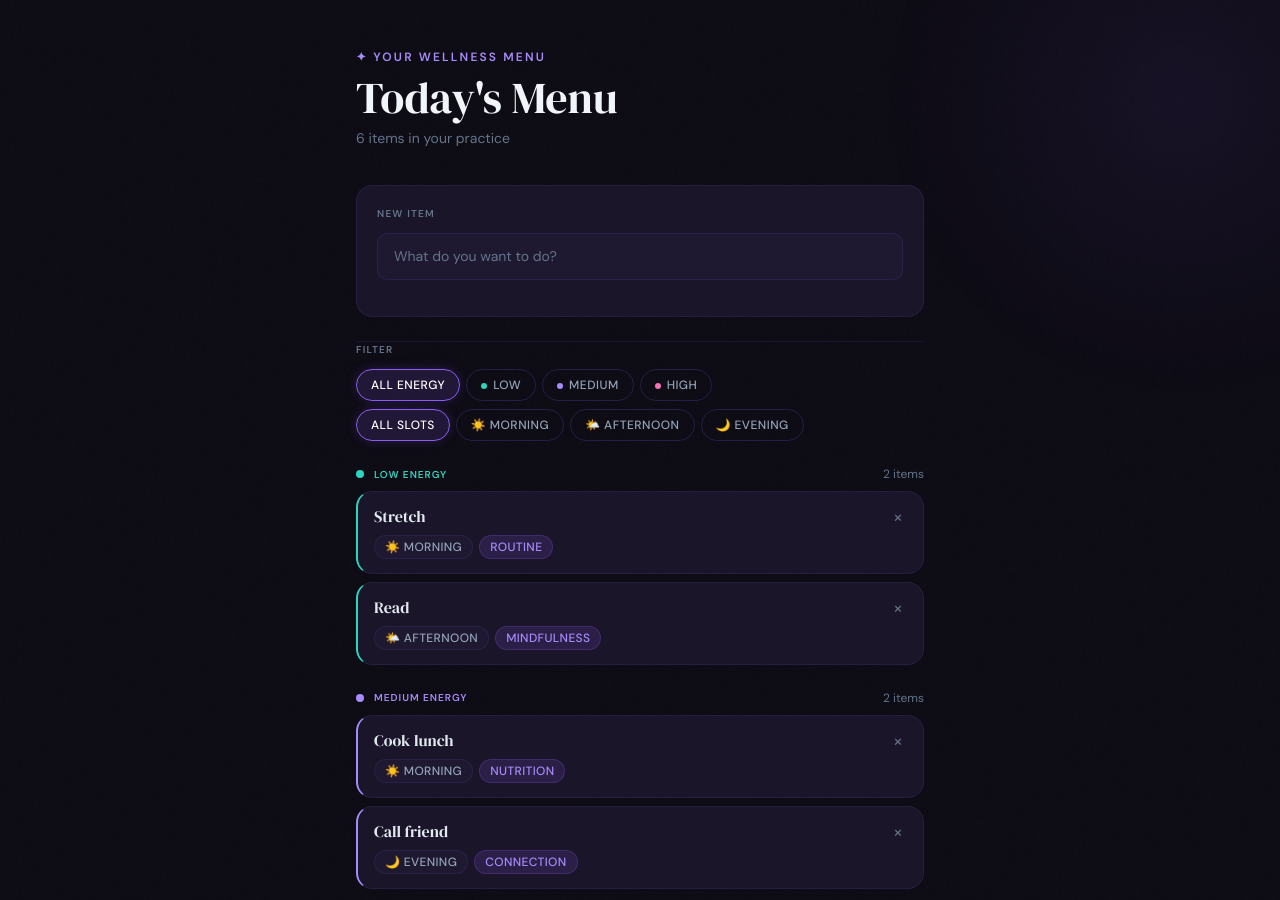
Test: App — energy filter › shows only high-energy items after clicking the High pill
Expected: the text "Stretch" is shown, [374,505,426,527]
Click the button "High": (676, 385) [640,369,712,401]
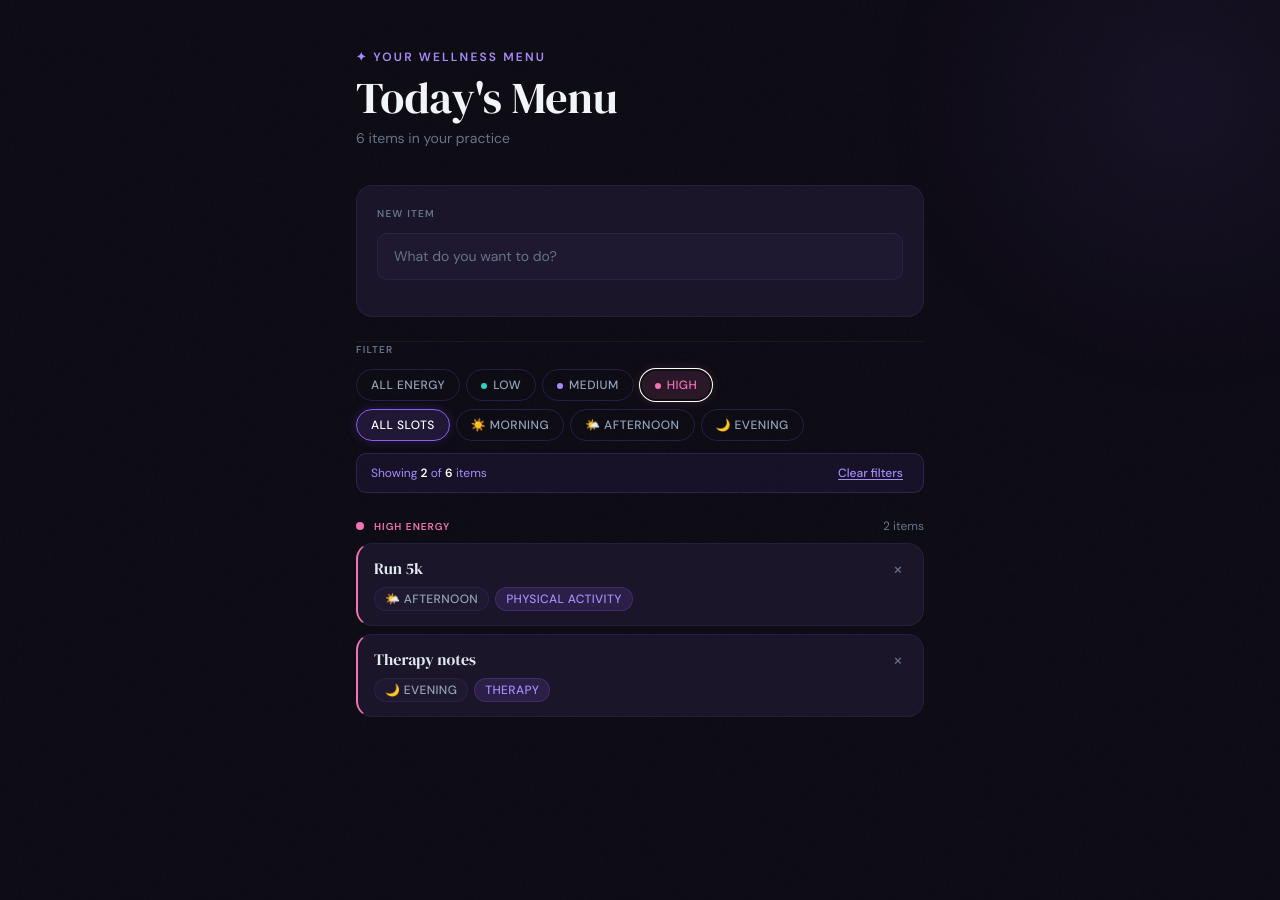
Expected: the text "Run 5k" is shown, [374,557,423,579]
Expected: the text "Stretch" is gone
